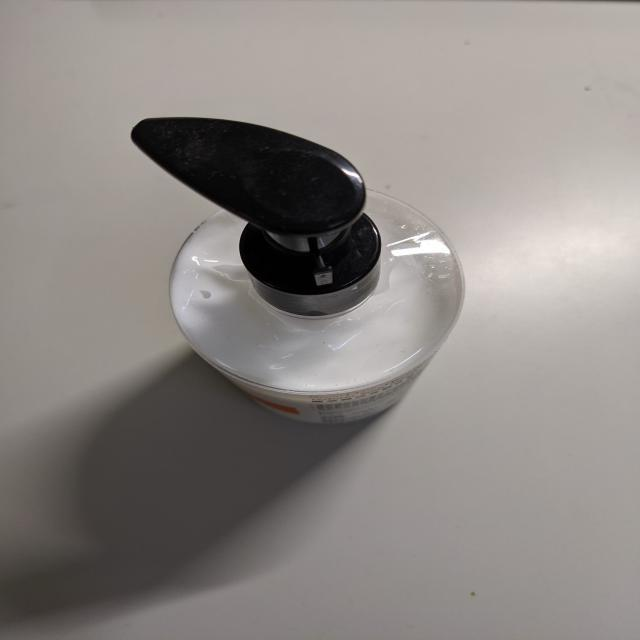Plastic: (124, 113, 462, 426)
